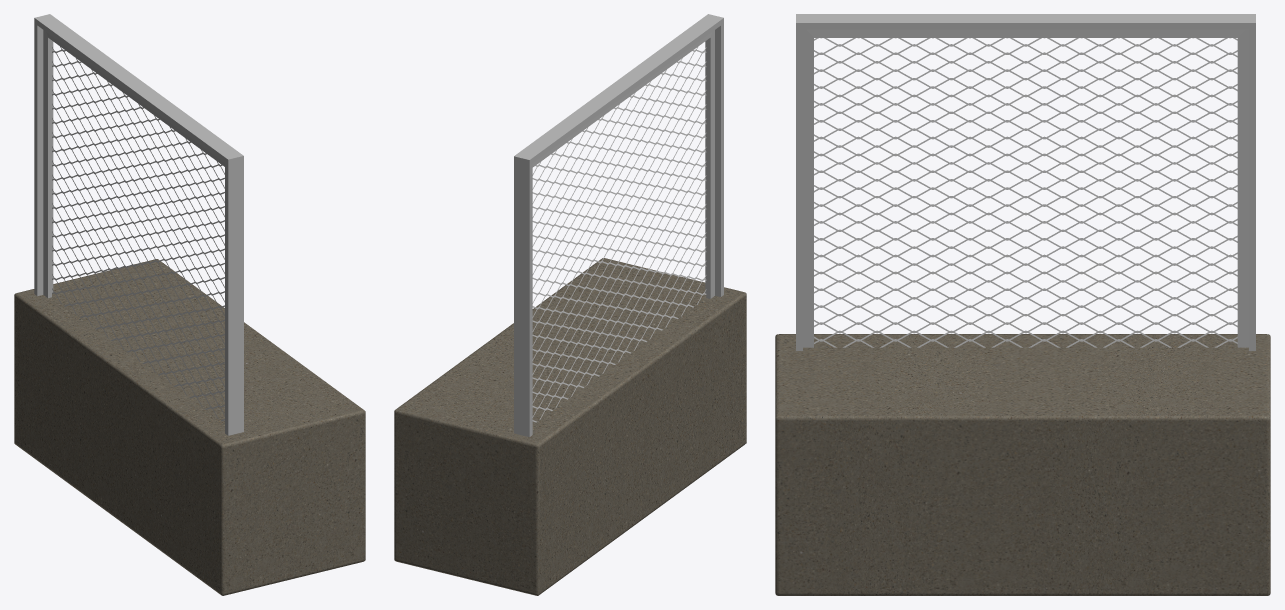
The model's file is Fence_2.fbx.
3 views of the same model, side by side, from view 1: azimuth 30°, elevation 25°; view 2: azimuth 150°, elevation 25°; view 3: azimuth 270°, elevation 25° (orthographic). The views are drawn at different scales.
Parts seen in each view (by area): view 1: Fence_2; view 2: Fence_2; view 3: Fence_2.
Part boxes in pixels (left/top/right/bottom): Fence_2: left=14, top=14, right=365, bottom=595; Fence_2: left=394, top=14, right=746, bottom=595; Fence_2: left=775, top=14, right=1270, bottom=595.
Bounding box in the file's own units: 1.2 × 3.39 × 3.
Materials: 2 (2 with a texture image).
